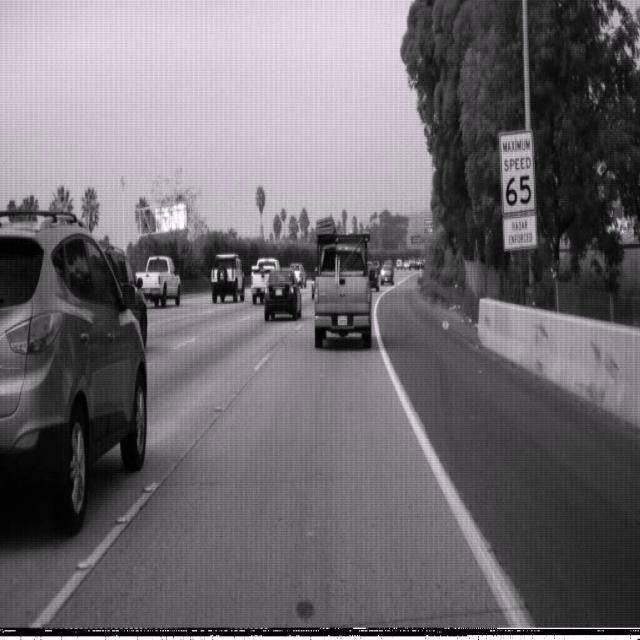speedLimit65: (499, 127, 536, 216)
